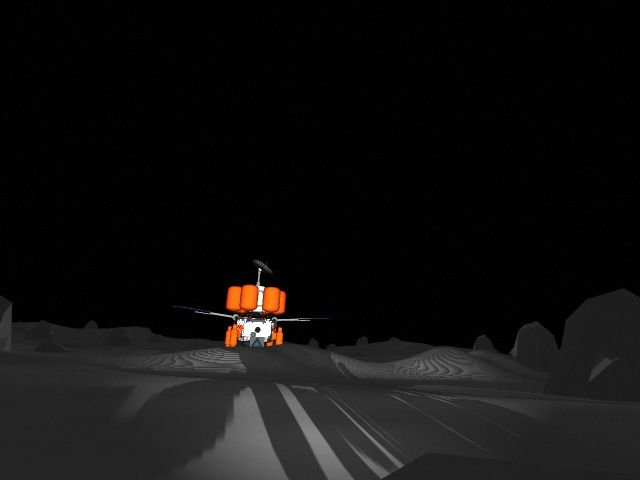homebase: (171, 257, 332, 362)
